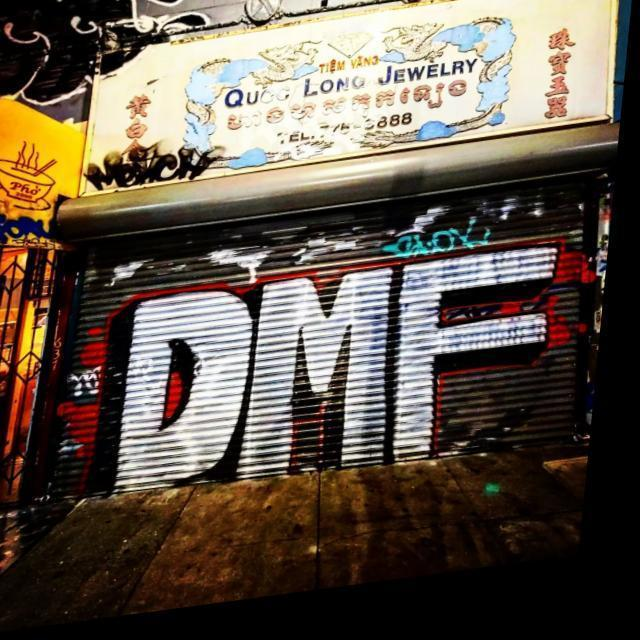nonspitting: (95, 243, 565, 493), (82, 146, 214, 192), (388, 223, 490, 256)
